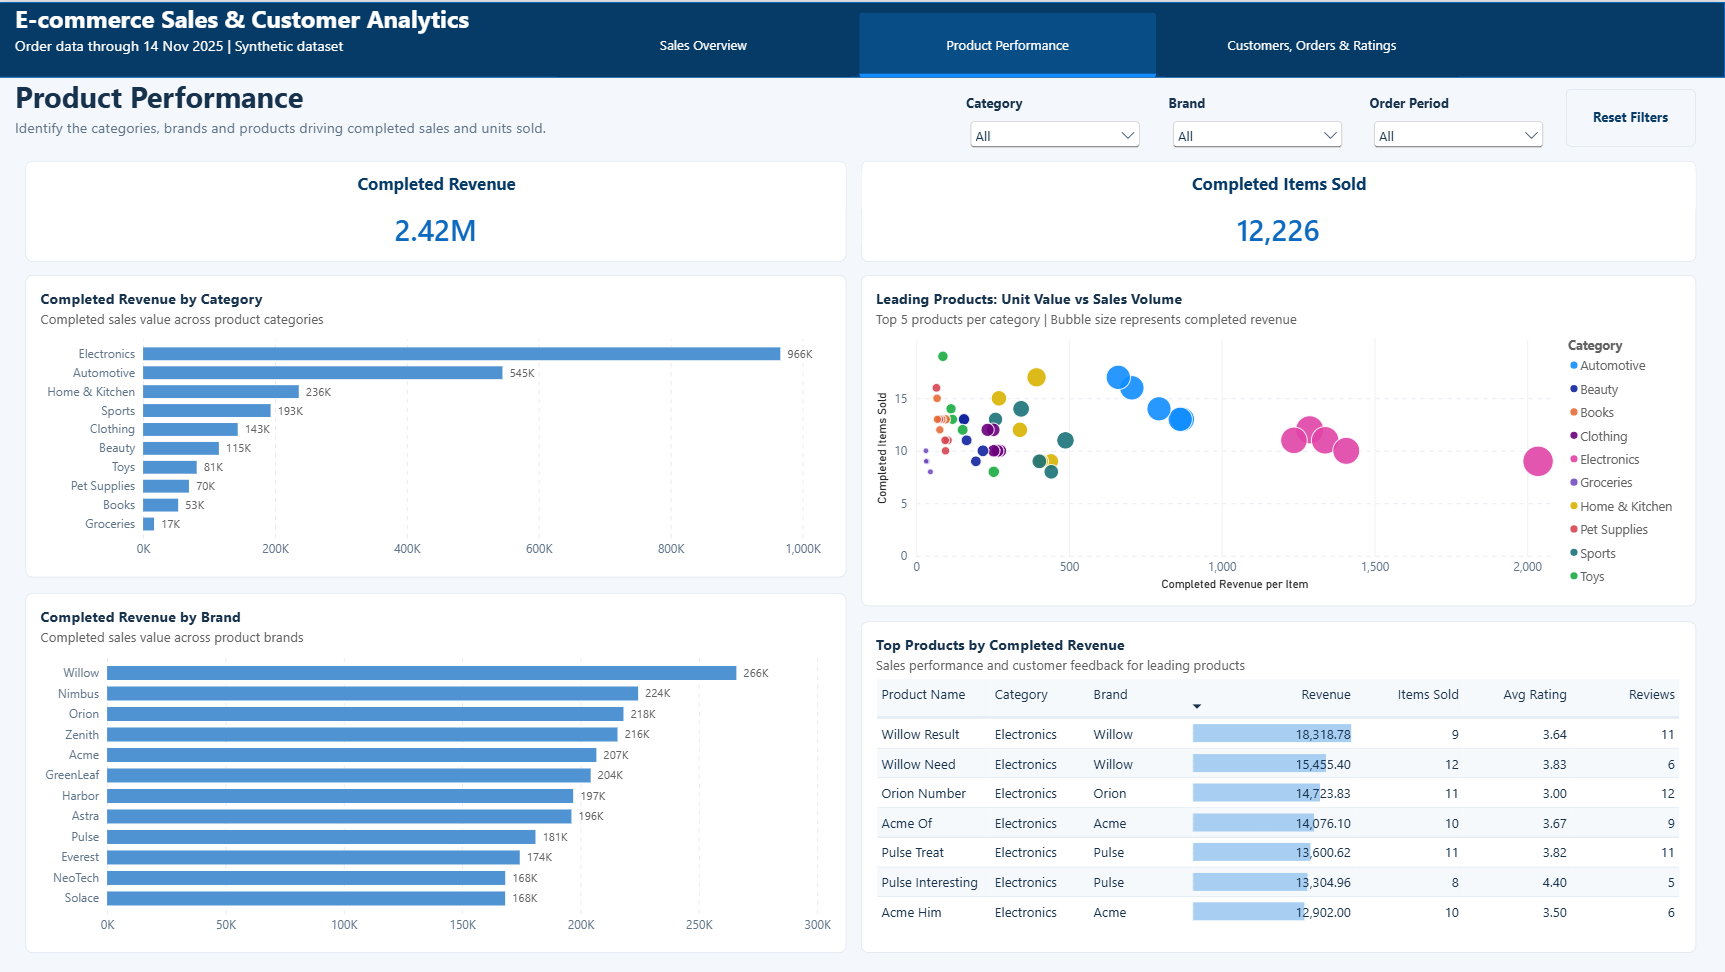

The dashboard page shown, as its layout file describes it:
{"tool":"powerbi","page":{"name":"Product Performance","canvas":[1920,1080],"ordinal":1},"visuals":[{"type":"shape","box":[0,0,1920,84],"z":0},{"type":"textbox","title":"E-commerce Sales & Customer Analytics","box":[0,0,592,64],"z":1000},{"type":"pageNavigator","box":[620,12,1008,72],"z":2000},{"type":"slicer","title":"Order Period","fields":{"Values":["DimDate.Year","DimDate.Quarter"]},"box":[1520,96,208,80],"z":3000},{"type":"actionButton","title":"Reset date","box":[1744,96,144,64],"z":4000},{"type":"textbox","title":"Product Performance","box":[0,84,624,80],"z":5000},{"type":"cardVisual","title":"Completed Revenue","fields":{"Data":["_Measures.Completed Revenue"]},"box":[32,176,912,112],"z":6000},{"type":"cardVisual","title":"Completed Items Sold","fields":{"Data":["_Measures.Completed Items Sold"]},"box":[960,176,928,112],"z":7000},{"type":"clusteredBarChart","title":"Completed Revenue by Category","fields":{"Category":["DimProduct.category"],"Y":["_Measures.Completed Revenue"]},"box":[32,304,912,336],"z":8000},{"type":"slicer","title":"Brand","fields":{"Values":["DimProduct.brand"]},"box":[1296,96,208,80],"z":9000},{"type":"slicer","title":"Category","fields":{"Values":["DimProduct.category"]},"box":[1072,96,208,80],"z":10000},{"type":"clusteredBarChart","title":"Completed Revenue by Brand","fields":{"Category":["DimProduct.brand"],"Y":["_Measures.Completed Revenue"]},"box":[32,656,912,400],"z":11000},{"type":"tableEx","title":"Top Products by Completed Revenue","fields":{"Values":["DimProduct.product_name","DimProduct.category","DimProduct.brand","_Measures.Completed Revenue","_Measures.Completed Items Sold","_Measures.Average Rating Display","_Measures.Review Count Display"]},"box":[960,688,928,368],"z":12000},{"type":"scatterChart","title":"Leading Products: Unit Value vs Sales Volume","fields":{"Category":["DimProduct.Product Label"],"Series":["DimProduct.category"],"Size":["_Measures.Completed Revenue"],"X":["_Measures.Completed Revenue per Item"],"Y":["_Measures.Completed Items Sold"]},"box":[960,304,928,368],"z":13000}]}

Visuals, with their boxes in screenshot pixels (x1, y1, x2, y2), scaled from the page's 1920x1080 canvas onto the 1725x972 screenshot:
shape: bbox=[0, 0, 1724, 76]
"E-commerce Sales & Customer Analytics" textbox: bbox=[0, 0, 532, 58]
pageNavigator: bbox=[557, 11, 1463, 76]
"Order Period" slicer: bbox=[1366, 86, 1552, 158]
"Reset date" actionButton: bbox=[1567, 86, 1696, 144]
"Product Performance" textbox: bbox=[0, 76, 561, 148]
"Completed Revenue" cardVisual: bbox=[29, 158, 848, 259]
"Completed Items Sold" cardVisual: bbox=[862, 158, 1696, 259]
"Completed Revenue by Category" clusteredBarChart: bbox=[29, 274, 848, 576]
"Brand" slicer: bbox=[1164, 86, 1351, 158]
"Category" slicer: bbox=[963, 86, 1150, 158]
"Completed Revenue by Brand" clusteredBarChart: bbox=[29, 590, 848, 950]
"Top Products by Completed Revenue" tableEx: bbox=[862, 619, 1696, 950]
"Leading Products: Unit Value vs Sales Volume" scatterChart: bbox=[862, 274, 1696, 605]
